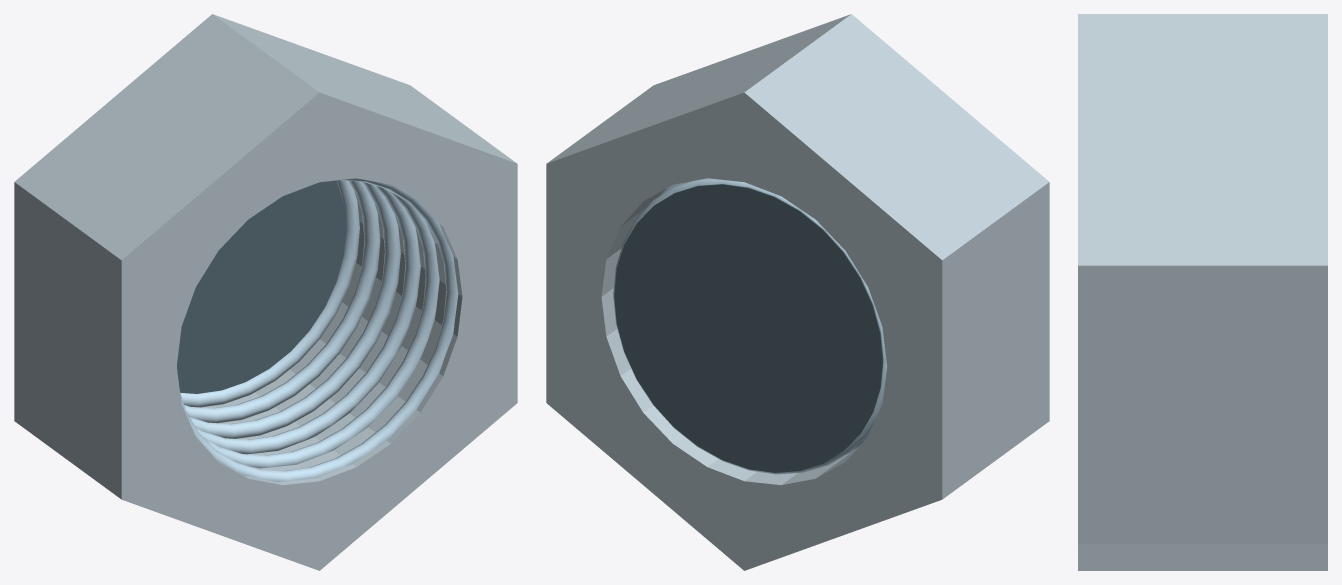
The model's file is hex-nut.glb.
The picture shows the model from 3 angles, left to right: view 1: azimuth 30°, elevation 25°; view 2: azimuth 150°, elevation 25°; view 3: azimuth 270°, elevation 25°; orthographic projection. The views are drawn at different scales.
Bounding box in the file's own units: 2.77 × 3.2 × 1.3.
